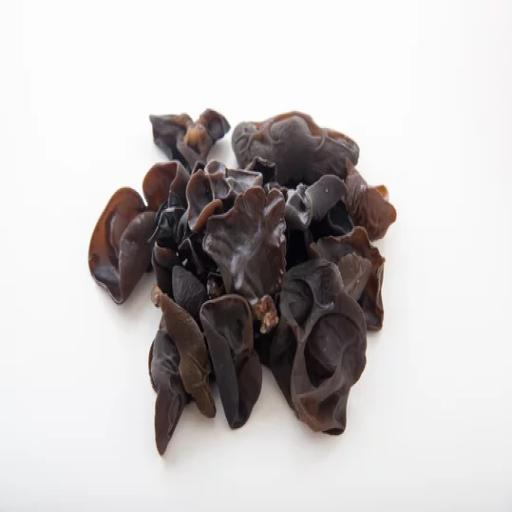Wood Ear Mushroom: (87, 101, 408, 465)
